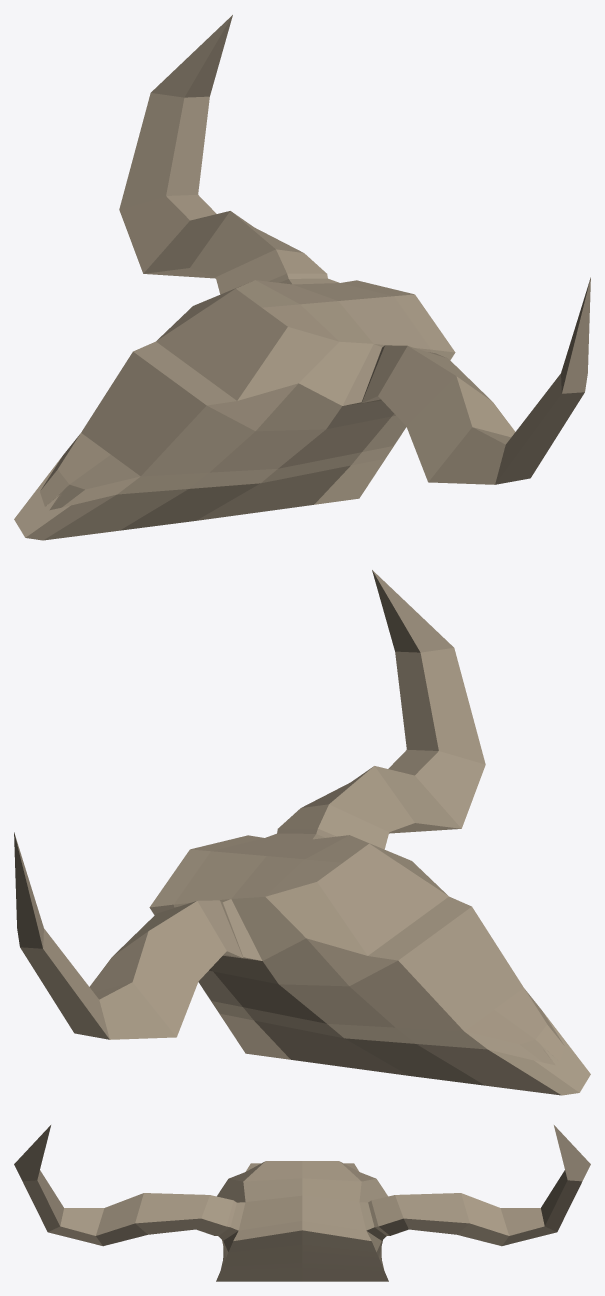
Rendered from cow skull.fbx.
3 renders of one model, top to bottom at view 1: azimuth 30°, elevation 25°; view 2: azimuth 150°, elevation 25°; view 3: azimuth 270°, elevation 25°, orthographic. The views are drawn at different scales.
Visible parts, largest first — view 1: cow skull; view 2: cow skull; view 3: cow skull.
Boxes of the visible parts, box(x1,y1,x2,y2) form: cow skull: box(14, 15, 590, 540); cow skull: box(14, 570, 590, 1095); cow skull: box(14, 1125, 590, 1281).
Bounding box in the file's own units: 84.71 × 61.92 × 155.
